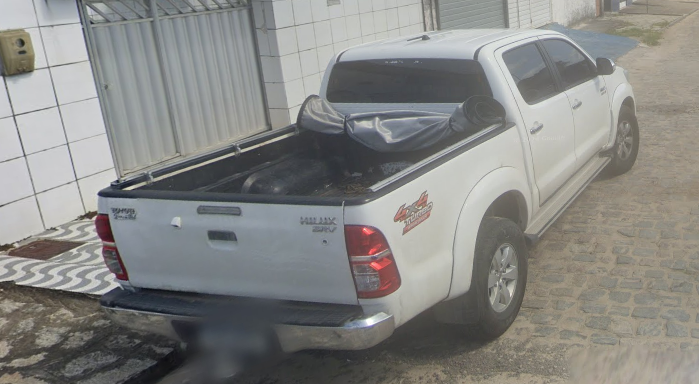car: (95, 25, 647, 350)
